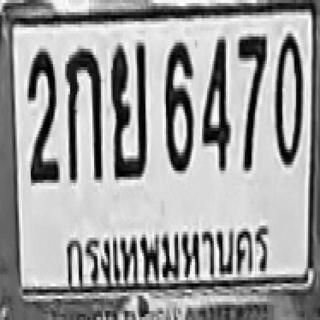A01: (65, 46, 101, 180)
A34: (110, 40, 146, 177)
N00: (274, 30, 301, 164)
N02: (26, 49, 56, 180)
N04: (200, 35, 229, 169)
N06: (164, 40, 192, 171)
N07: (236, 33, 265, 171)
P04: (60, 215, 278, 302)
